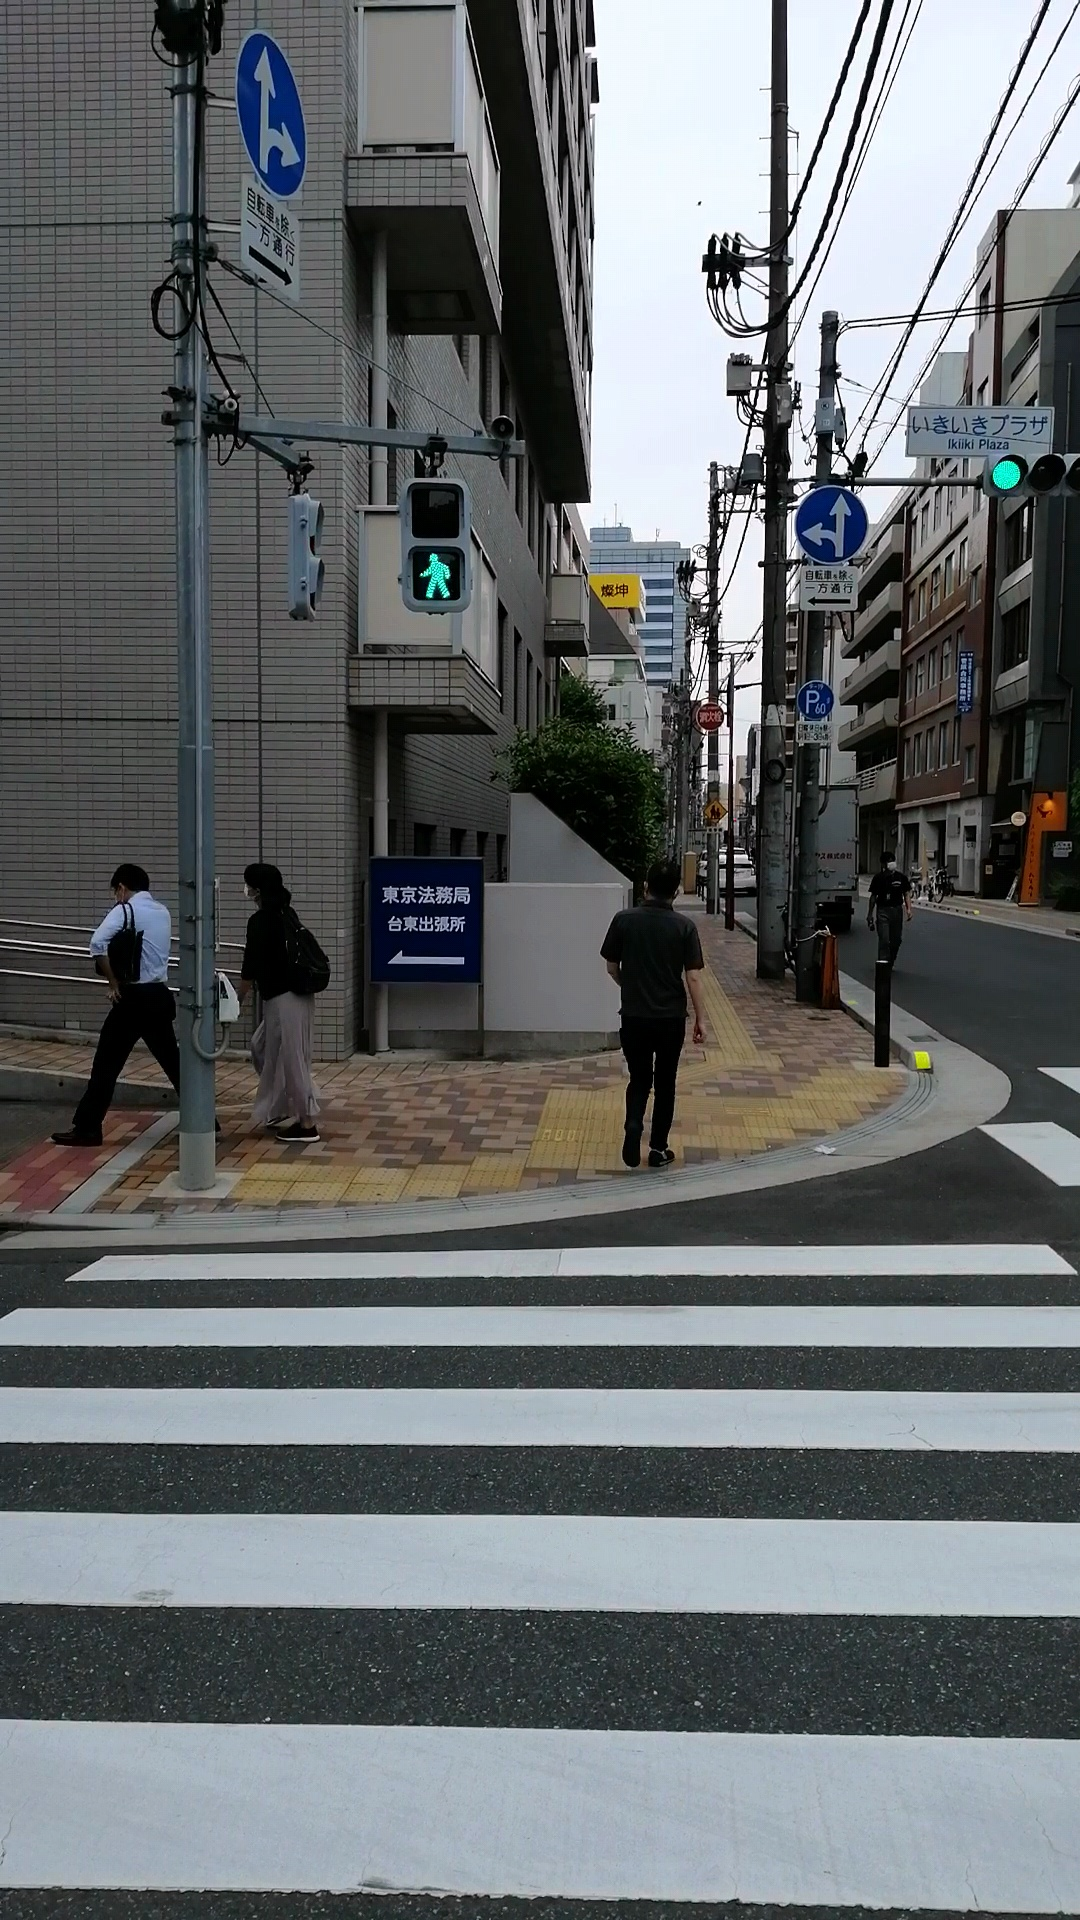green: (402, 479, 472, 612)
